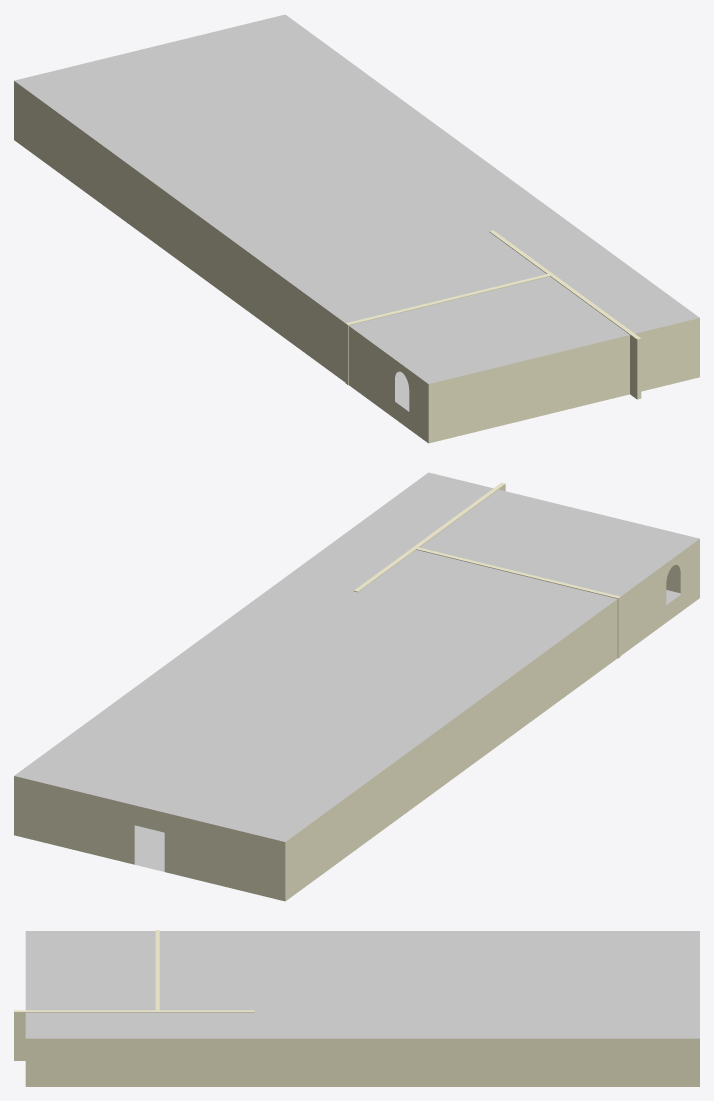
File: wallss.fbx
3 views of the same model, one above another, from view 1: azimuth 30°, elevation 25°; view 2: azimuth 150°, elevation 25°; view 3: azimuth 270°, elevation 25° (orthographic). The views are drawn at different scales.
Parts seen in each view (by area): view 1: rooms.001, wallModule.004; view 2: rooms.001, wallModule.001; view 3: rooms.001, wallModule.004, wallModule.001, wallModule.002.
Boxes of the visible parts, bbox=[...] form: rooms.001: bbox=[14, 14, 699, 443]; wallModule.004: bbox=[610, 318, 641, 399]; rooms.001: bbox=[14, 472, 699, 901]; wallModule.001: bbox=[354, 502, 478, 592]; rooms.001: bbox=[25, 931, 699, 1086]; wallModule.004: bbox=[14, 1010, 58, 1060]; wallModule.001: bbox=[58, 1010, 254, 1012]; wallModule.002: bbox=[155, 942, 159, 1010].
Size of the model in its own units: 1516 by 320 by 4068.
